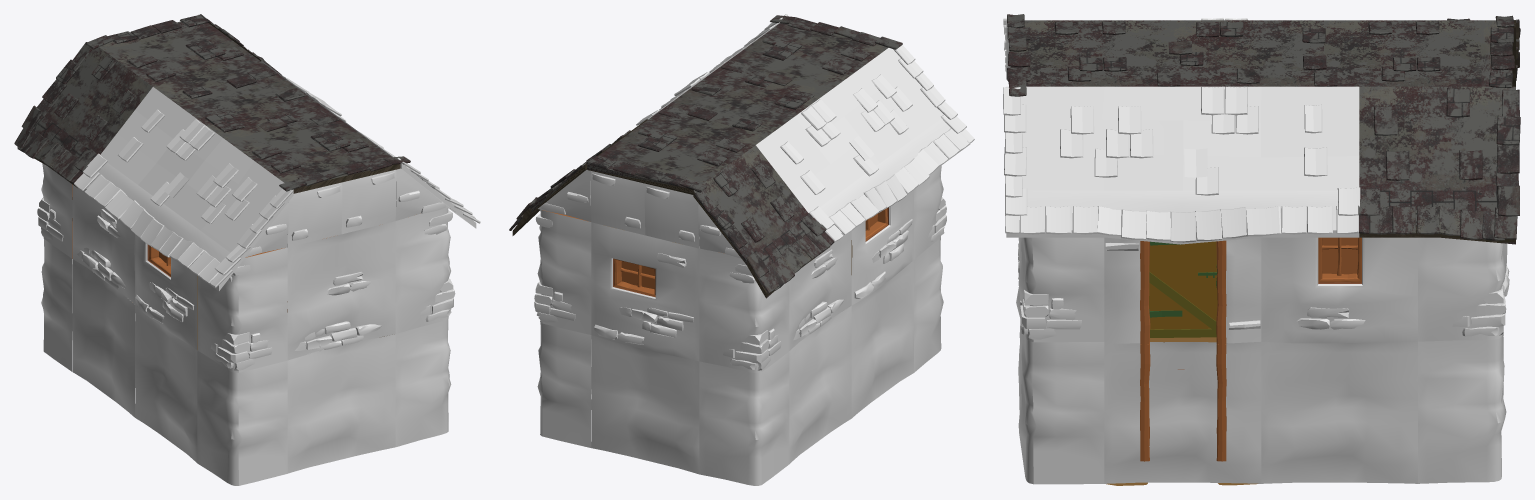
Rendered from Modular_house_6.fbx.
The picture shows the model from 3 angles, left to right: view 1: azimuth 30°, elevation 25°; view 2: azimuth 150°, elevation 25°; view 3: azimuth 270°, elevation 25°; orthographic projection. The views are drawn at different scales.
Visible parts, largest first — view 1: roof.059, roof.054, underground.043, wall.092, underground.048, roof.058, wall.096, underground.046, roof.056, Roof_long_strip_low.027, underground.047, underground.042 (+17 smaller); view 2: roof.059, roof.054, underground.044, underground.045, wall.089, roof.058, wall.093, underground.046, roof.056, underground.047, Roof_long_strip_low.027, underground.041 (+18 smaller); view 3: roof.062, underground.040, roof.054, underground.039, Roof_long_strip_low.029, roof.052, wall.088, roof.058, underground.041, underground.042, Roof_long_strip_low.023, wall.090 (+13 smaller).
Part boxes in pixels (x1,y1,x2,y2): roof.059: [100, 87, 293, 264]; roof.054: [167, 72, 410, 193]; underground.043: [287, 334, 395, 473]; wall.092: [287, 221, 395, 360]; underground.048: [197, 351, 287, 485]; roof.058: [85, 14, 276, 96]; wall.096: [197, 247, 287, 372]; underground.046: [72, 259, 134, 417]; roof.056: [36, 42, 152, 154]; Roof_long_strip_low.027: [74, 153, 240, 291]; underground.047: [135, 305, 197, 463]; underground.042: [395, 319, 451, 446]; roof.059: [756, 41, 957, 212]; roof.054: [662, 15, 902, 134]; underground.044: [591, 335, 699, 474]; underground.045: [699, 352, 789, 485]; wall.089: [591, 222, 699, 361]; roof.058: [586, 105, 768, 194]; wall.093: [699, 248, 789, 372]; underground.046: [789, 306, 851, 463]; roof.056: [693, 145, 808, 265]; underground.047: [851, 260, 913, 418]; Roof_long_strip_low.027: [809, 114, 974, 246]; underground.041: [537, 322, 591, 447]; roof.062: [1003, 86, 1359, 197]; underground.040: [1261, 341, 1417, 483]; roof.054: [1007, 14, 1326, 96]; underground.039: [1104, 342, 1261, 483]; Roof_long_strip_low.029: [1005, 187, 1360, 244]; roof.052: [1359, 86, 1520, 190]; wall.088: [1261, 237, 1417, 343]; roof.058: [1314, 15, 1514, 87]; underground.041: [1418, 333, 1506, 483]; underground.042: [1018, 334, 1104, 484]; Roof_long_strip_low.023: [1358, 185, 1519, 244]; wall.090: [1418, 237, 1506, 341].
Bounding box in the file's own units: 495 × 519 × 660.
